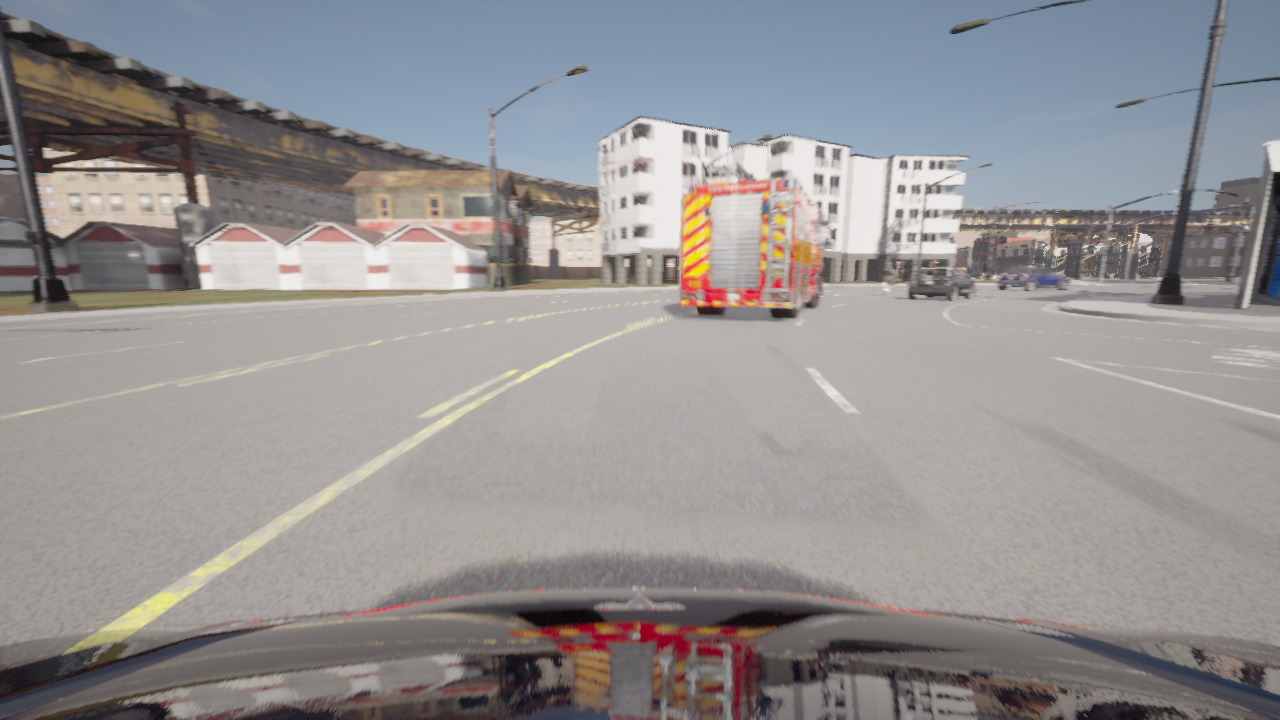cyclist: (0, 588, 1279, 719), (679, 162, 831, 318), (907, 267, 974, 300), (997, 265, 1068, 290), (881, 281, 893, 294), (980, 272, 999, 277)
